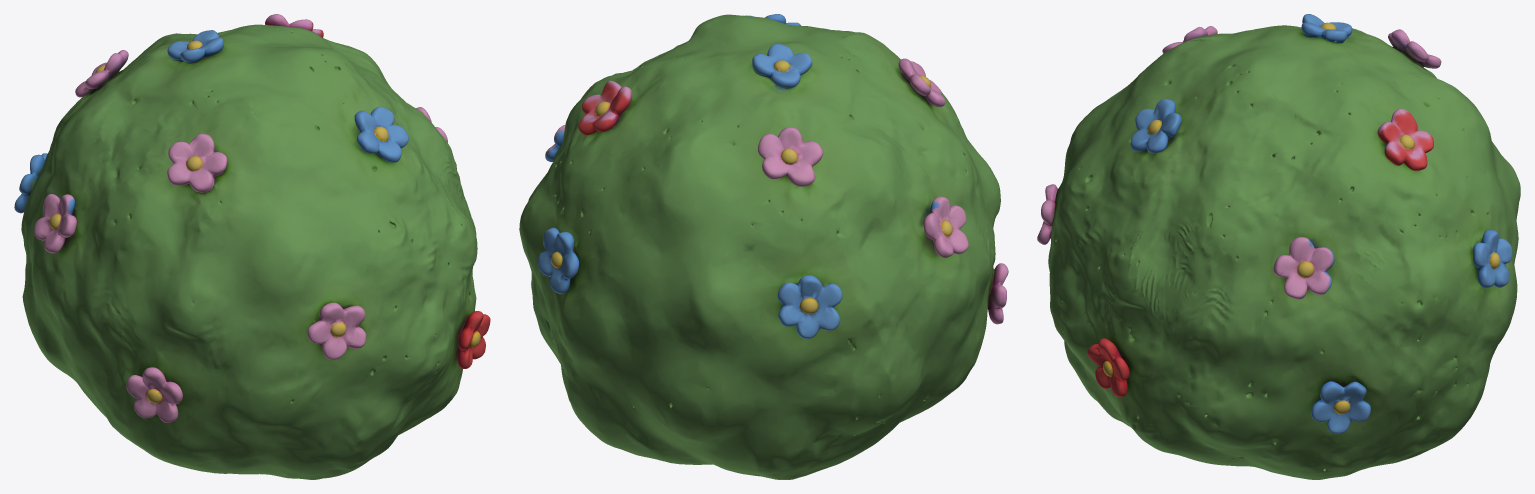
The model's file is bush.glb.
3 views of the same model, side by side, from view 1: azimuth 30°, elevation 25°; view 2: azimuth 150°, elevation 25°; view 3: azimuth 270°, elevation 25° (orthographic).
Visible parts, largest first — view 1: tripo_node_b56eb0e7-4455-48ec-8f99-dfefbfc6a337; view 2: tripo_node_b56eb0e7-4455-48ec-8f99-dfefbfc6a337; view 3: tripo_node_b56eb0e7-4455-48ec-8f99-dfefbfc6a337.
Part boxes in pixels (x1,y1,x2,y2): tripo_node_b56eb0e7-4455-48ec-8f99-dfefbfc6a337: [14, 14, 490, 479]; tripo_node_b56eb0e7-4455-48ec-8f99-dfefbfc6a337: [519, 14, 1008, 479]; tripo_node_b56eb0e7-4455-48ec-8f99-dfefbfc6a337: [1037, 14, 1520, 479].
Bounding box in the file's own units: 0.9649 × 0.9356 × 0.9999.
1 material, 1 textured.
